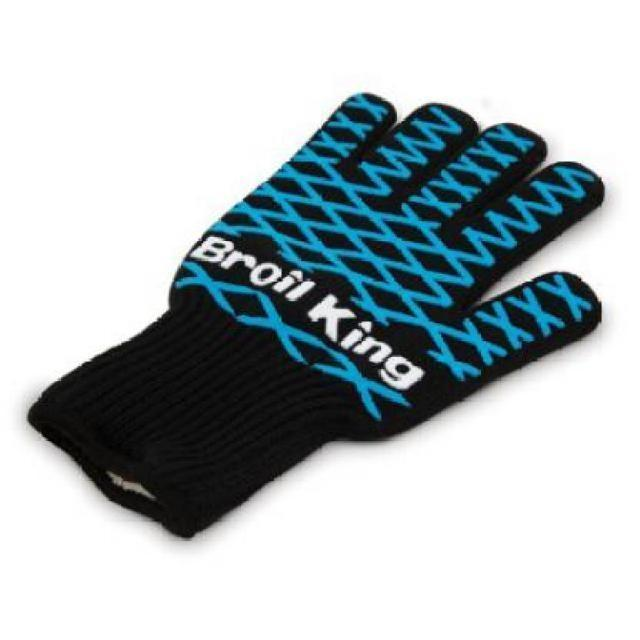glove: (18, 89, 608, 541)
